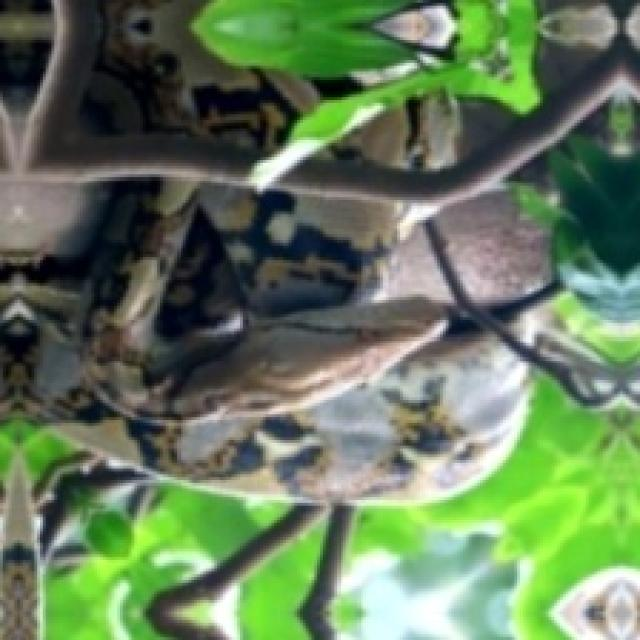reticulated python: (0, 179, 529, 501), (84, 0, 295, 152), (440, 190, 550, 304)
